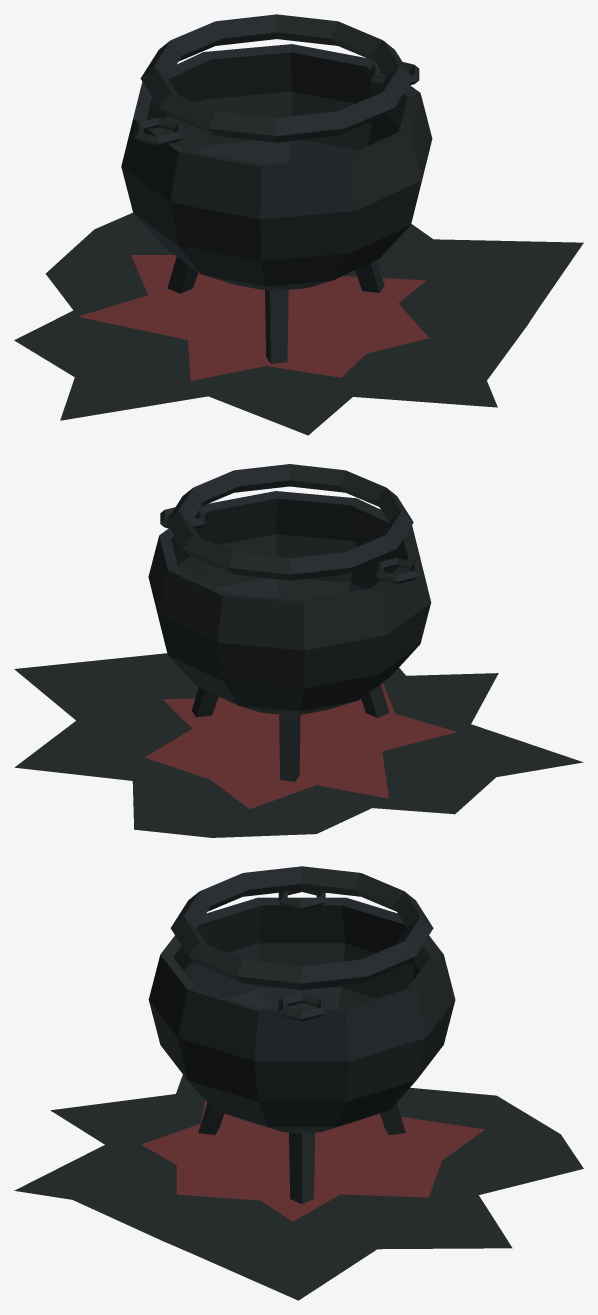
The model's file is ceaun_spart.glb.
3 views of the same model, one above another, from view 1: azimuth 30°, elevation 25°; view 2: azimuth 150°, elevation 25°; view 3: azimuth 270°, elevation 25° (orthographic). The views are drawn at different scales.
Parts seen in each view (by area): view 1: Arsura, Balta, Ciob5, Ciob4, Ciob7, Buza1, Buza3, Ciob1, Buza2, Ciob8, Ciob6, Picior3 (+4 smaller); view 2: Arsura, Balta, Ciob8, Ciob5, Ciob7, Ciob6, Ciob4, Buza3, Buza2, Ciob3, Buza1, Ciob2 (+4 smaller); view 3: Arsura, Balta, Ciob6, Ciob7, Ciob4, Ciob8, Buza2, Buza1, Ciob2, Ciob5, Buza3, Picior1 (+2 smaller).
Boxes of the visible parts, box(x1,y1,x2,y2) form: Arsura: box(14, 213, 583, 435); Balta: box(78, 255, 428, 380); Ciob5: box(260, 131, 421, 279); Ciob4: box(121, 118, 262, 273); Ciob7: box(203, 44, 372, 162); Buza1: box(140, 66, 344, 142); Buza3: box(141, 14, 337, 78); Ciob1: box(179, 246, 349, 290); Buza2: box(331, 21, 412, 135); Ciob8: box(133, 52, 209, 151); Ciob6: box(366, 61, 432, 179); Picior3: box(265, 288, 288, 363); Arsura: box(14, 653, 583, 837); Balta: box(145, 683, 456, 808); Ciob8: box(217, 588, 386, 688); Ciob5: box(276, 491, 408, 600); Ciob7: box(148, 535, 228, 680); Ciob6: box(159, 491, 276, 587); Ciob4: box(359, 525, 431, 699); Buza3: box(166, 511, 351, 580); Buza2: box(166, 464, 345, 522); Ciob3: box(223, 674, 378, 714); Buza1: box(339, 470, 413, 573); Ciob2: box(168, 578, 278, 705); Arsura: box(14, 1075, 583, 1300); Balta: box(141, 1100, 484, 1221); Ciob6: box(178, 989, 349, 1101); Ciob7: box(336, 954, 455, 1126); Ciob4: box(188, 897, 345, 1008); Ciob8: box(338, 897, 443, 1008); Buza2: box(170, 916, 367, 989); Buza1: box(171, 866, 360, 927); Ciob2: box(188, 1080, 382, 1132); Ciob5: box(148, 935, 197, 1079); Buza3: box(354, 873, 433, 982); Picior1: box(289, 1130, 315, 1203).
Size of the model in its own units: 1.46 by 0.6181 by 1.3.
